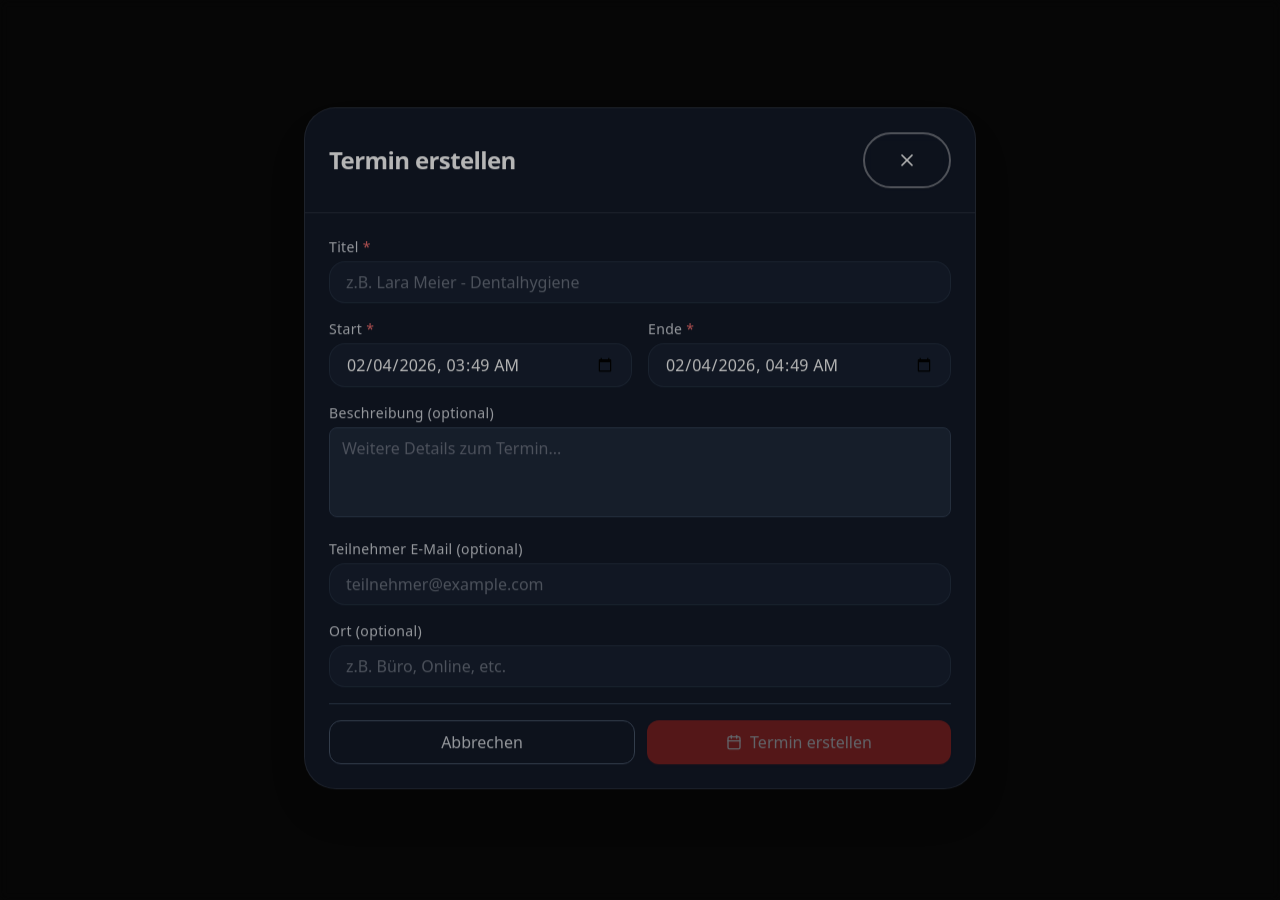
CalendarEventModal › should show success message after creating event
Type "New Event" into the field labelled "Titel *". click: (640, 282)
box: [329, 261, 951, 303]
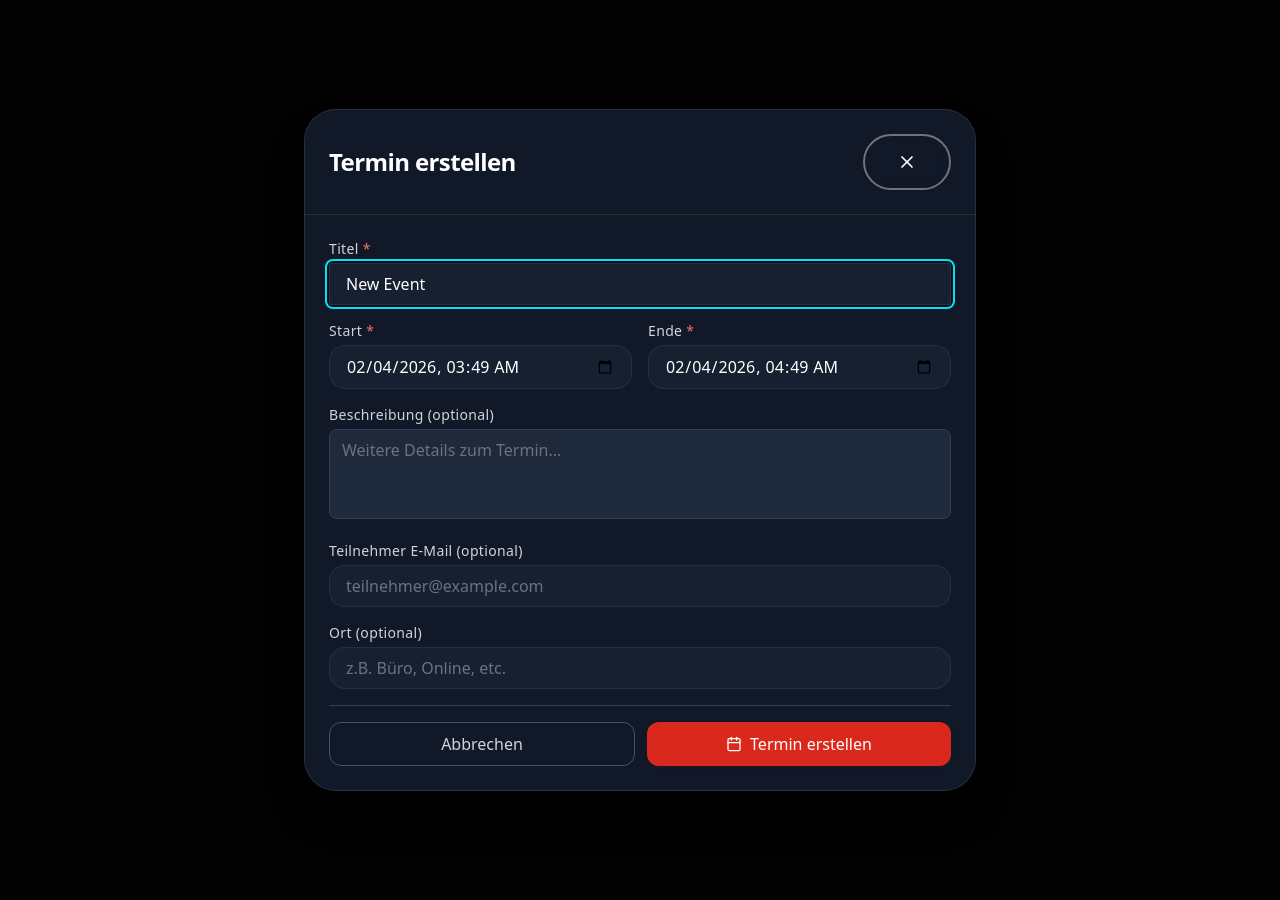
Type "2024-01-15T10:00" into the field labelled "Start *". click: (480, 367)
box: [329, 345, 632, 389]
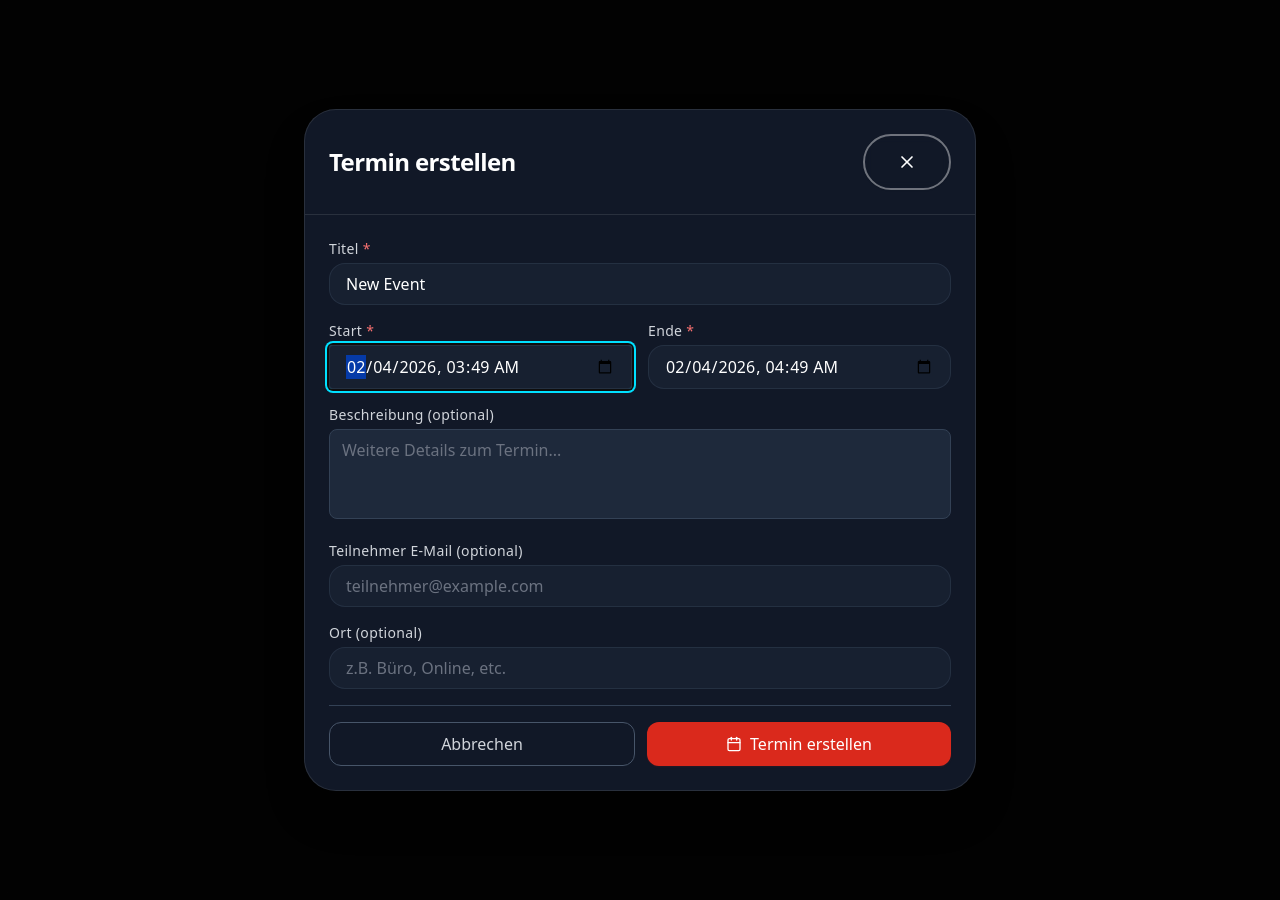
Type "2024-01-15T11:00" into the field labelled "Ende *". click: (800, 367)
box: [648, 345, 951, 389]
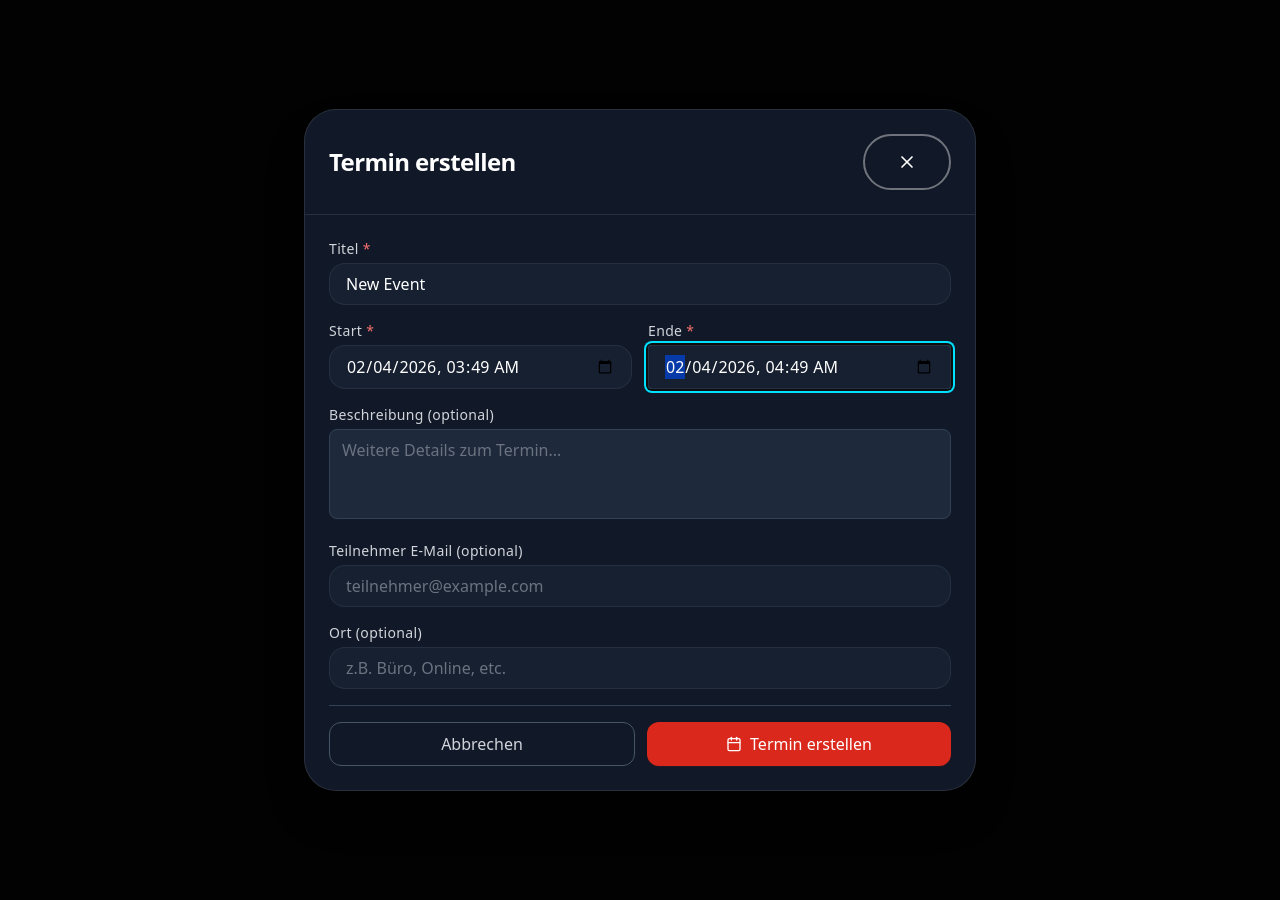
Click the button "Termin erstellen". click: (799, 744)
box: [647, 722, 951, 766]
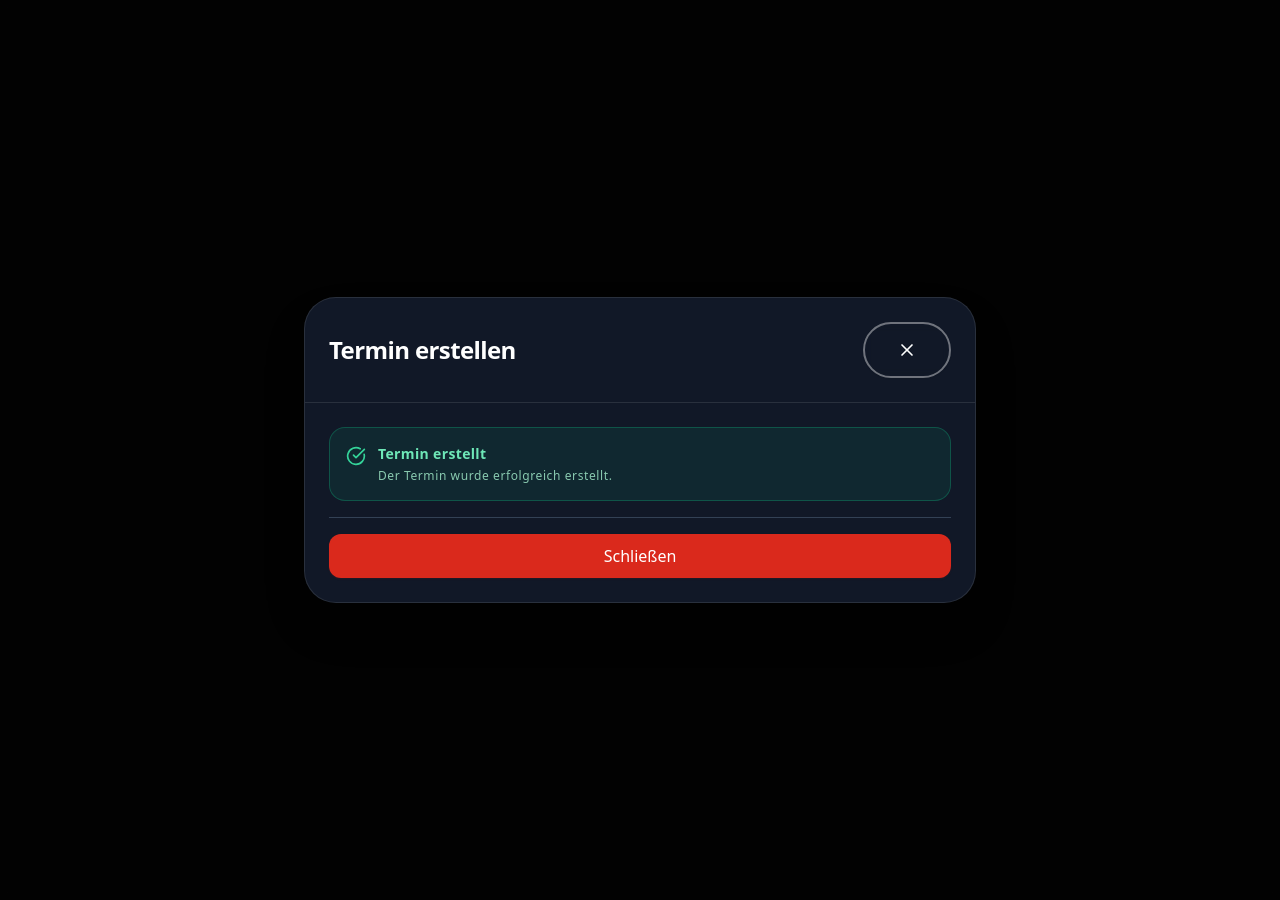
Expected: the heading "Termin erstellt" is shown, [378, 444, 486, 463]
Expected: the text "Der Termin wurde erfolgreich erstellt." is shown, [378, 467, 612, 484]
